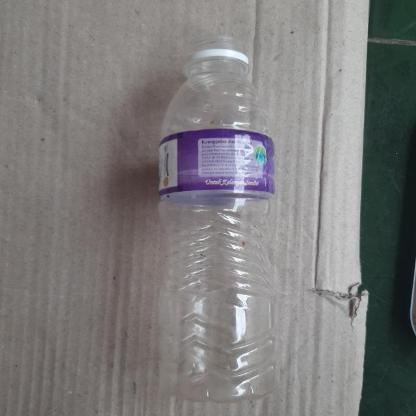Plastic Bottle: (156, 38, 278, 404)
